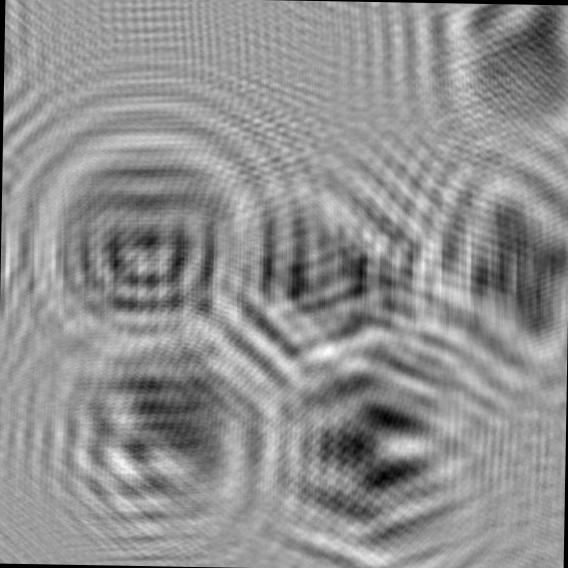D: (0, 102, 284, 375)
K: (14, 306, 293, 568)
V: (386, 2, 568, 172)
W: (247, 306, 511, 568)
X: (388, 120, 568, 407)
Z: (175, 144, 441, 398)
